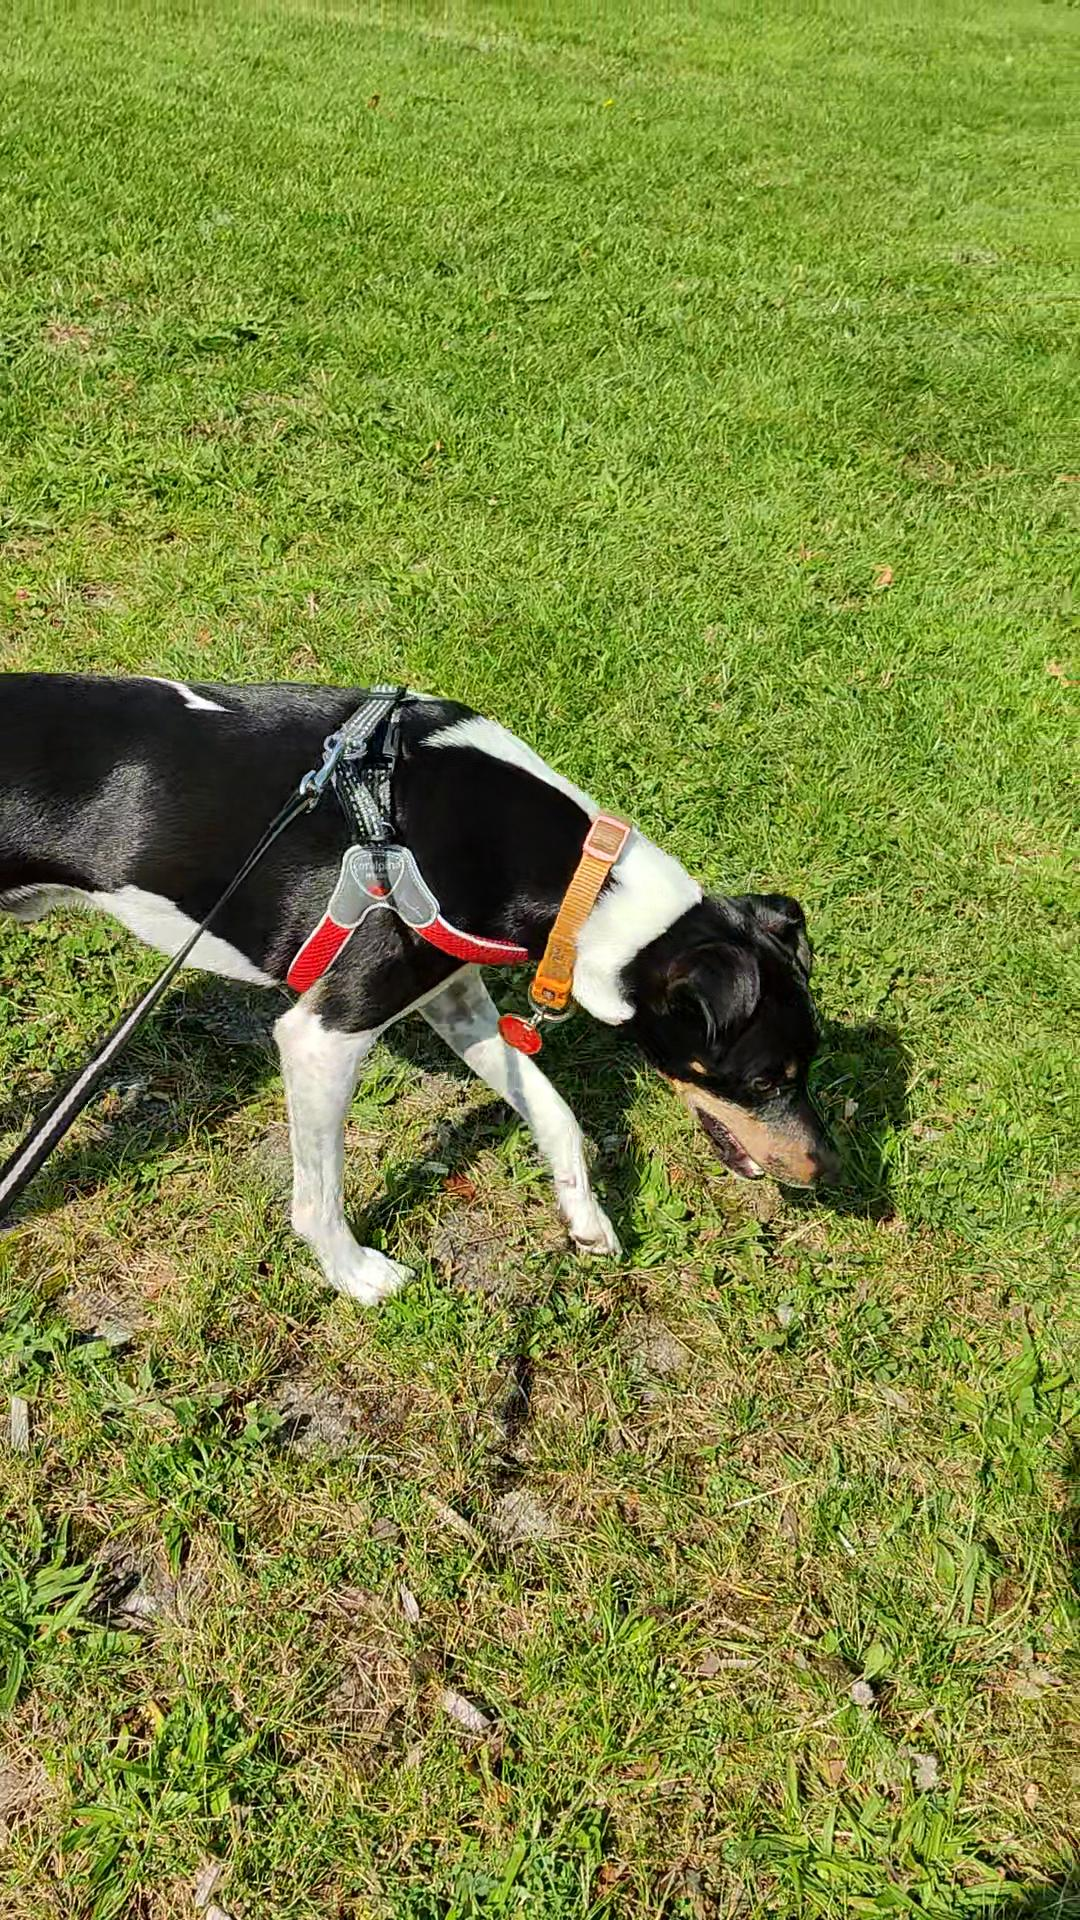Dog: (0, 662, 866, 1317)
